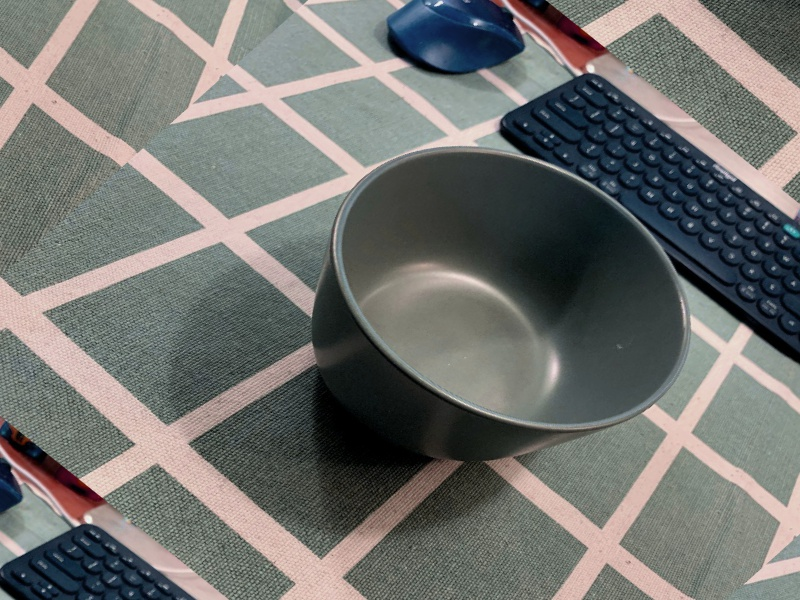bowl_big: (204, 74, 763, 547)
